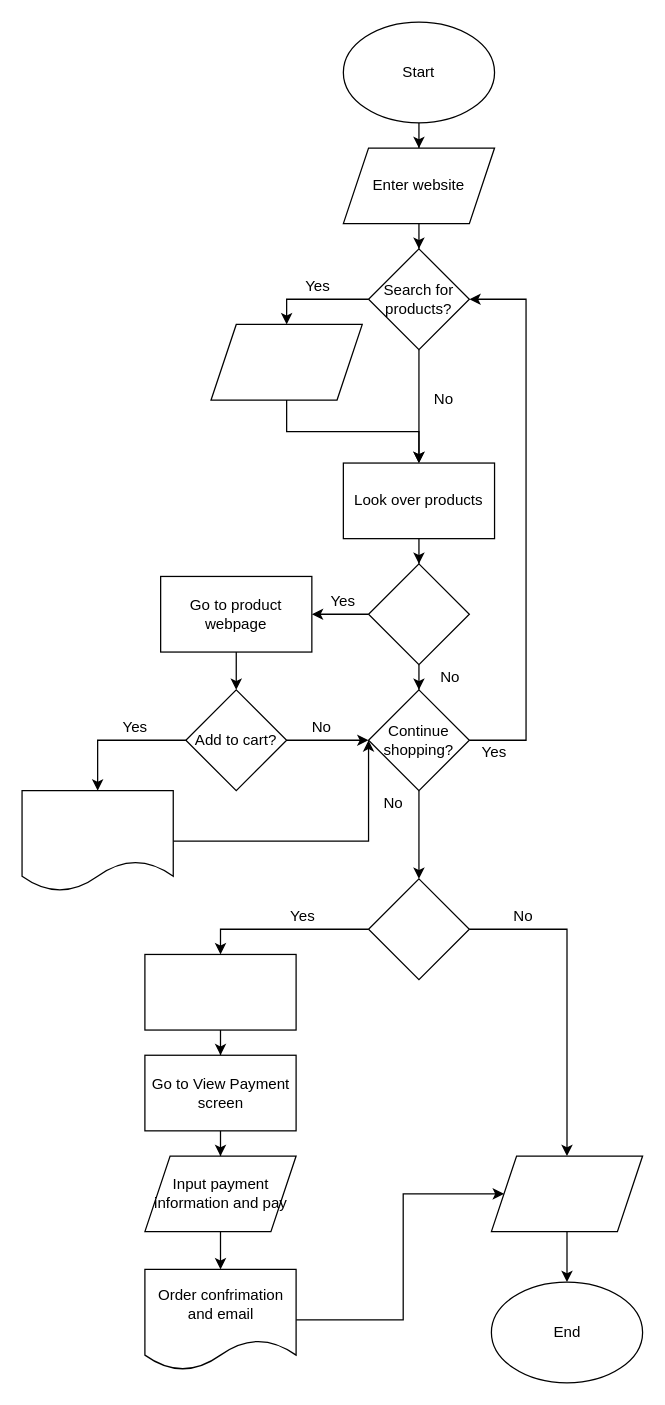
This 665x1405 diagram has some shape labels left out. The shapes that lost their labels are listed below. From the top down, each one's centre as x and y in pixels, then its label:
At point 286,361: "Input product to search for".
At point 418,614: "View specific product?".
At point 97,840: "Added to cart confirmation".
At point 418,929: "Checkout?".
At point 220,991: "Go to View Cart screen".
At point 566,1193: "Leave the website".
